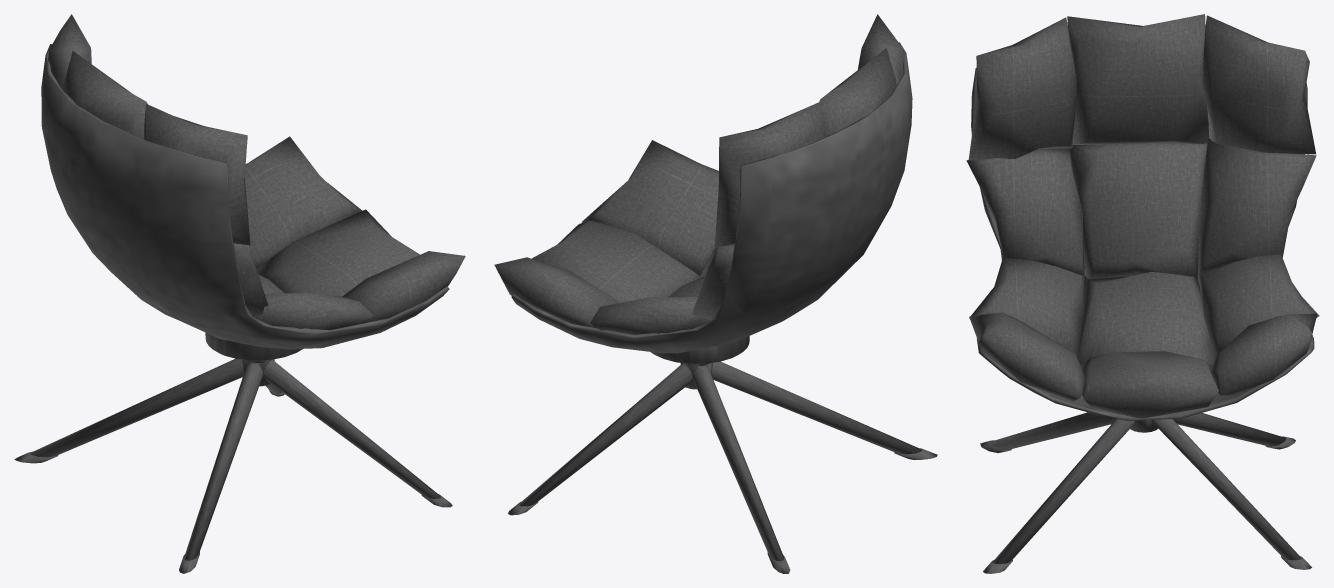
The model's file is chair3.fbx.
3 renders of one model, left to right at view 1: azimuth 30°, elevation 25°; view 2: azimuth 150°, elevation 25°; view 3: azimuth 270°, elevation 25°, orthographic.
Visible parts, largest first — view 1: Cube.034; view 2: Cube.034; view 3: Cube.034.
Boxes of the visible parts, x1,y1,x2,y2 form: Cube.034: (14,14,465,573); Cube.034: (494,14,937,573); Cube.034: (966,14,1319,573).
Size of the model in its own units: 0.7633 by 0.9617 by 0.7143.
Materials: 1 (1 with a texture image).
